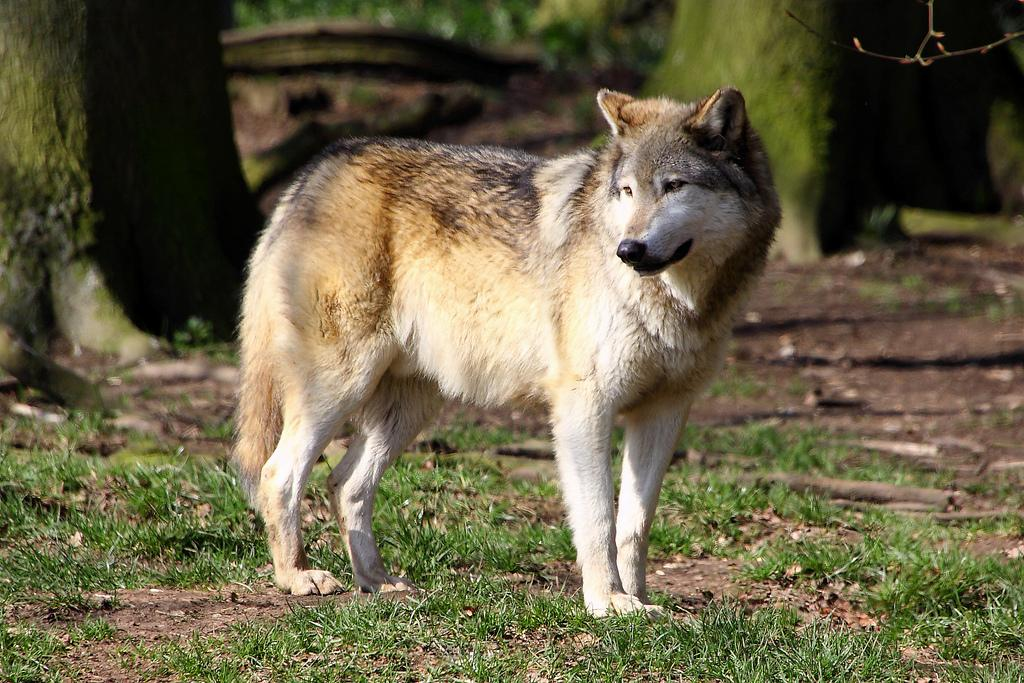Wolf: (235, 89, 780, 615)
